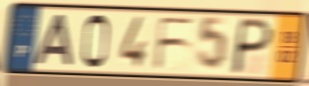0: (81, 12, 110, 70)
4: (118, 15, 149, 71)
5: (197, 15, 230, 76)
A: (31, 13, 75, 68)
F: (152, 15, 197, 72)
P: (228, 16, 276, 76)
